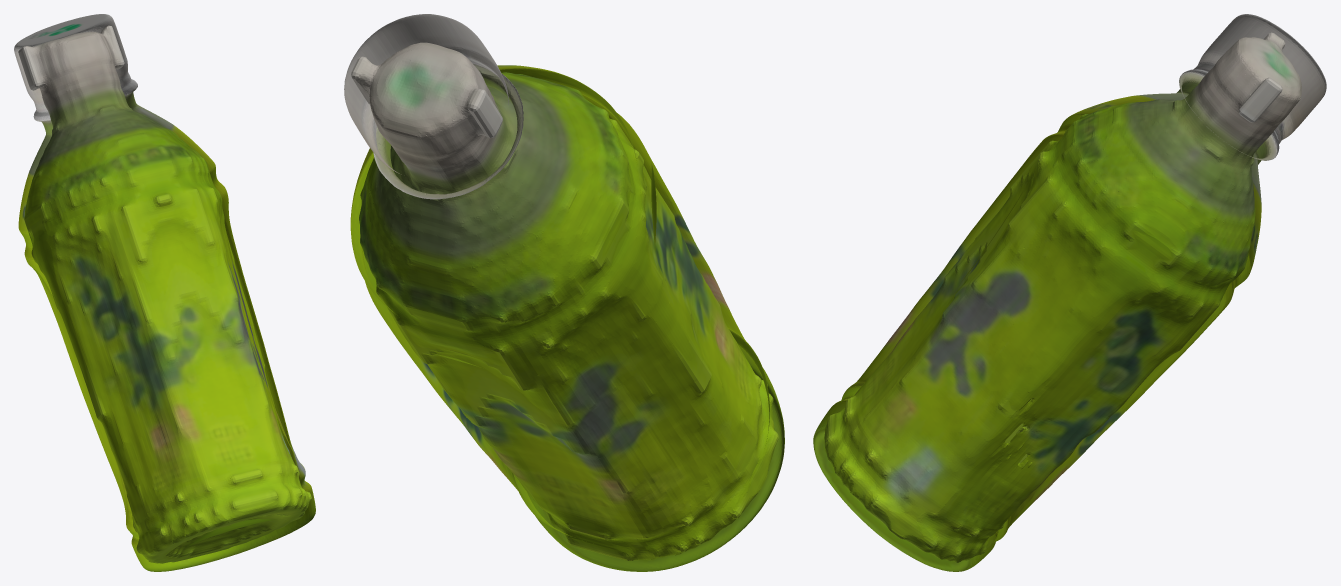
The model's file is ito_en_bottle.glb.
The picture shows the model from 3 angles, left to right: view 1: azimuth 30°, elevation 25°; view 2: azimuth 150°, elevation 25°; view 3: azimuth 270°, elevation 25°; orthographic projection. The views are drawn at different scales.
Parts seen in each view (by area): view 1: world; view 2: world; view 3: world.
Boxes of the visible parts, x1,y1,x2,y2 form: world: (14,14,315,571); world: (344,14,784,571); world: (813,14,1326,571).
Bounding box in the file's own units: 0.7224 × 1.72 × 1.49.
